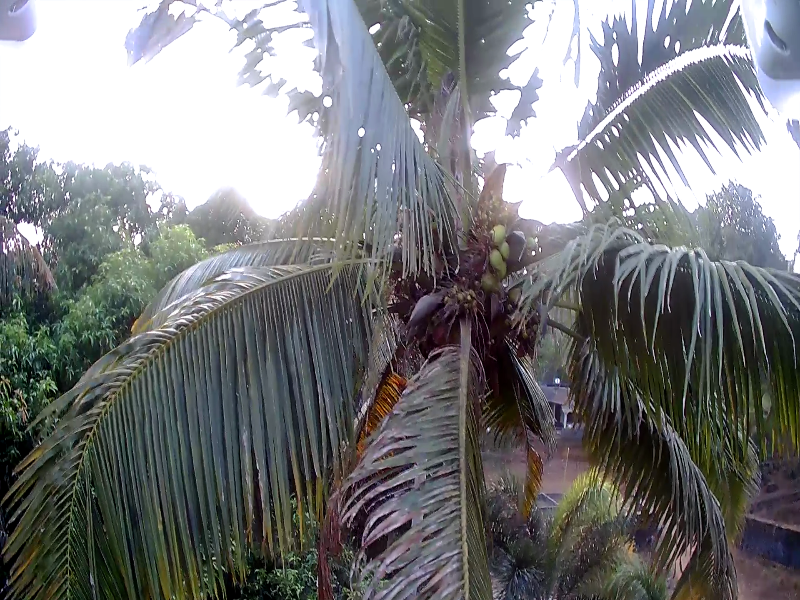coconut: (487, 248, 506, 266), (475, 272, 497, 287), (455, 288, 472, 305), (487, 225, 506, 240), (490, 258, 507, 274), (495, 240, 513, 253), (510, 291, 527, 304)
